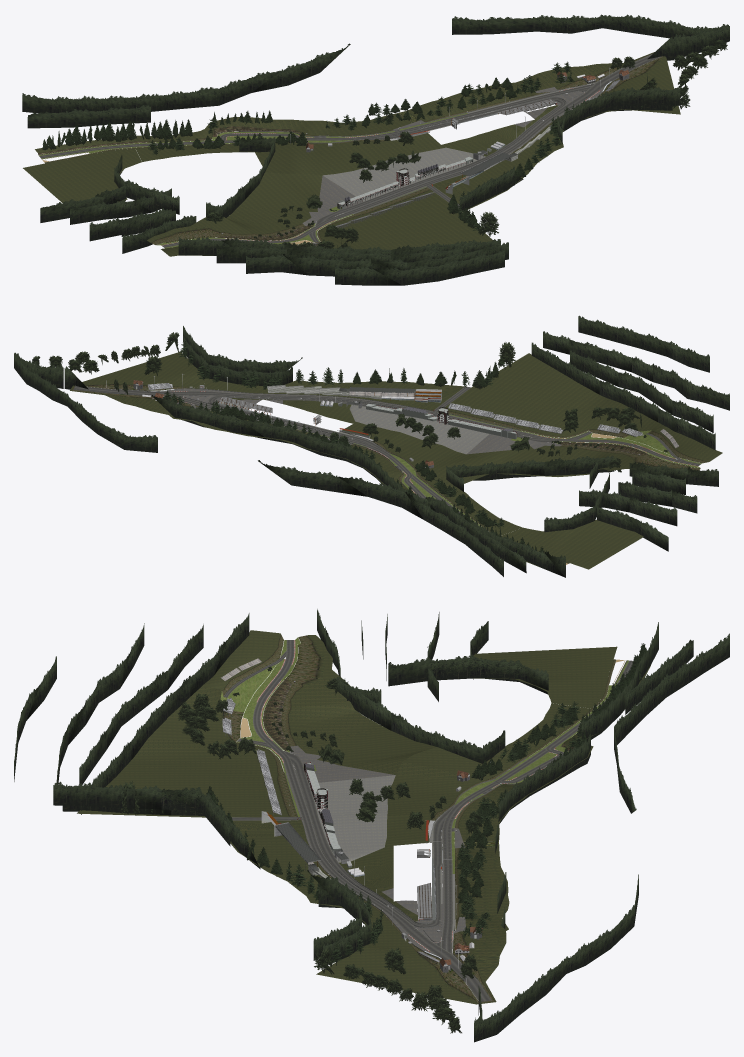
The model's file is spa-kit.glb.
3 renders of one model, top to bottom at view 1: azimuth 30°, elevation 25°; view 2: azimuth 150°, elevation 25°; view 3: azimuth 270°, elevation 25°, orthographic. The views are drawn at different scales.
Parts seen in each view (by area): view 1: pinewallfbxpinewall1111Mtl, grassfldgrass0541Mtl, pinepine011Mtl, segwidefbxsegwide30071Mtl, roadroad1x0171Mtl, rdgrassrdgrass0201Mtl, roadroadrold0021Mtl, pinepine021Mtl, roadroadrold20051Mtl, grdrlfbxgrdrla20011Mtl, grassxgrass0171Mtl, roadroad3x0091Mtl (+2 smaller); view 2: pinewallfbxpinewall1111Mtl, grassfldgrass0541Mtl, segwidefbxsegwide30071Mtl, roadroad1x0171Mtl, rdgrassrdgrass0201Mtl, pinepine021Mtl, pinepine011Mtl, roadroadrold0021Mtl, roadroadrold20051Mtl, grassxgrass0171Mtl, grdrlfbxgrdrla20011Mtl, bldgtexturedmaterialbldgpf0011Mtl (+4 smaller); view 3: grassfldgrass0541Mtl, pinewallfbxpinewall1111Mtl, segwidefbxsegwide30071Mtl, roadroad1x0171Mtl, rdgrassrdgrass0201Mtl, roadroadrold0021Mtl, pinepine011Mtl, pinepine021Mtl, grassxgrass0171Mtl, roadroadrold20051Mtl, roadroad3x0091Mtl, grdrlfbxgrdrla20011Mtl (+2 smaller).
Part boxes in pixels (bbox=[...]): pinewallfbxpinewall1111Mtl: bbox=[22, 14, 729, 285]; grassfldgrass0541Mtl: bbox=[23, 52, 680, 256]; pinepine011Mtl: bbox=[42, 77, 533, 227]; segwidefbxsegwide30071Mtl: bbox=[204, 39, 727, 248]; roadroad1x0171Mtl: bbox=[146, 55, 661, 247]; rdgrassrdgrass0201Mtl: bbox=[44, 52, 663, 245]; roadroadrold0021Mtl: bbox=[323, 85, 586, 201]; pinepine021Mtl: bbox=[147, 61, 660, 231]; roadroadrold20051Mtl: bbox=[302, 87, 604, 225]; grdrlfbxgrdrla20011Mtl: bbox=[240, 54, 652, 213]; grassxgrass0171Mtl: bbox=[39, 113, 467, 248]; roadroad3x0091Mtl: bbox=[39, 88, 575, 213]; pinewallfbxpinewall1111Mtl: bbox=[14, 315, 729, 577]; grassfldgrass0541Mtl: bbox=[70, 352, 722, 569]; segwidefbxsegwide30071Mtl: bbox=[31, 332, 667, 472]; roadroad1x0171Mtl: bbox=[74, 385, 700, 525]; rdgrassrdgrass0201Mtl: bbox=[71, 383, 708, 563]; pinepine021Mtl: bbox=[162, 340, 505, 528]; pinepine011Mtl: bbox=[220, 362, 547, 554]; roadroadrold0021Mtl: bbox=[192, 401, 488, 454]; roadroadrold20051Mtl: bbox=[165, 389, 561, 454]; grassxgrass0171Mtl: bbox=[284, 412, 701, 526]; grdrlfbxgrdrla20011Mtl: bbox=[73, 388, 520, 495]; bldgtexturedmaterialbldgpf0011Mtl: bbox=[148, 383, 643, 436]; grassfldgrass0541Mtl: bbox=[77, 630, 651, 1004]; pinewallfbxpinewall1111Mtl: bbox=[14, 609, 729, 1042]; segwidefbxsegwide30071Mtl: bbox=[121, 666, 482, 1033]; roadroad1x0171Mtl: bbox=[223, 640, 590, 1001]; rdgrassrdgrass0201Mtl: bbox=[219, 634, 616, 1003]; roadroadrold0021Mtl: bbox=[309, 775, 455, 949]; pinepine011Mtl: bbox=[162, 643, 647, 903]; pinepine021Mtl: bbox=[144, 701, 583, 965]; grassxgrass0171Mtl: bbox=[220, 637, 628, 873]; roadroadrold20051Mtl: bbox=[283, 745, 465, 954]; roadroad3x0091Mtl: bbox=[287, 660, 633, 938]; grdrlfbxgrdrla20011Mtl: bbox=[284, 757, 527, 1000].
Bounding box in the file's own units: 1182 × 83.64 × 837.
Materials: 59 (59 with a texture image).
